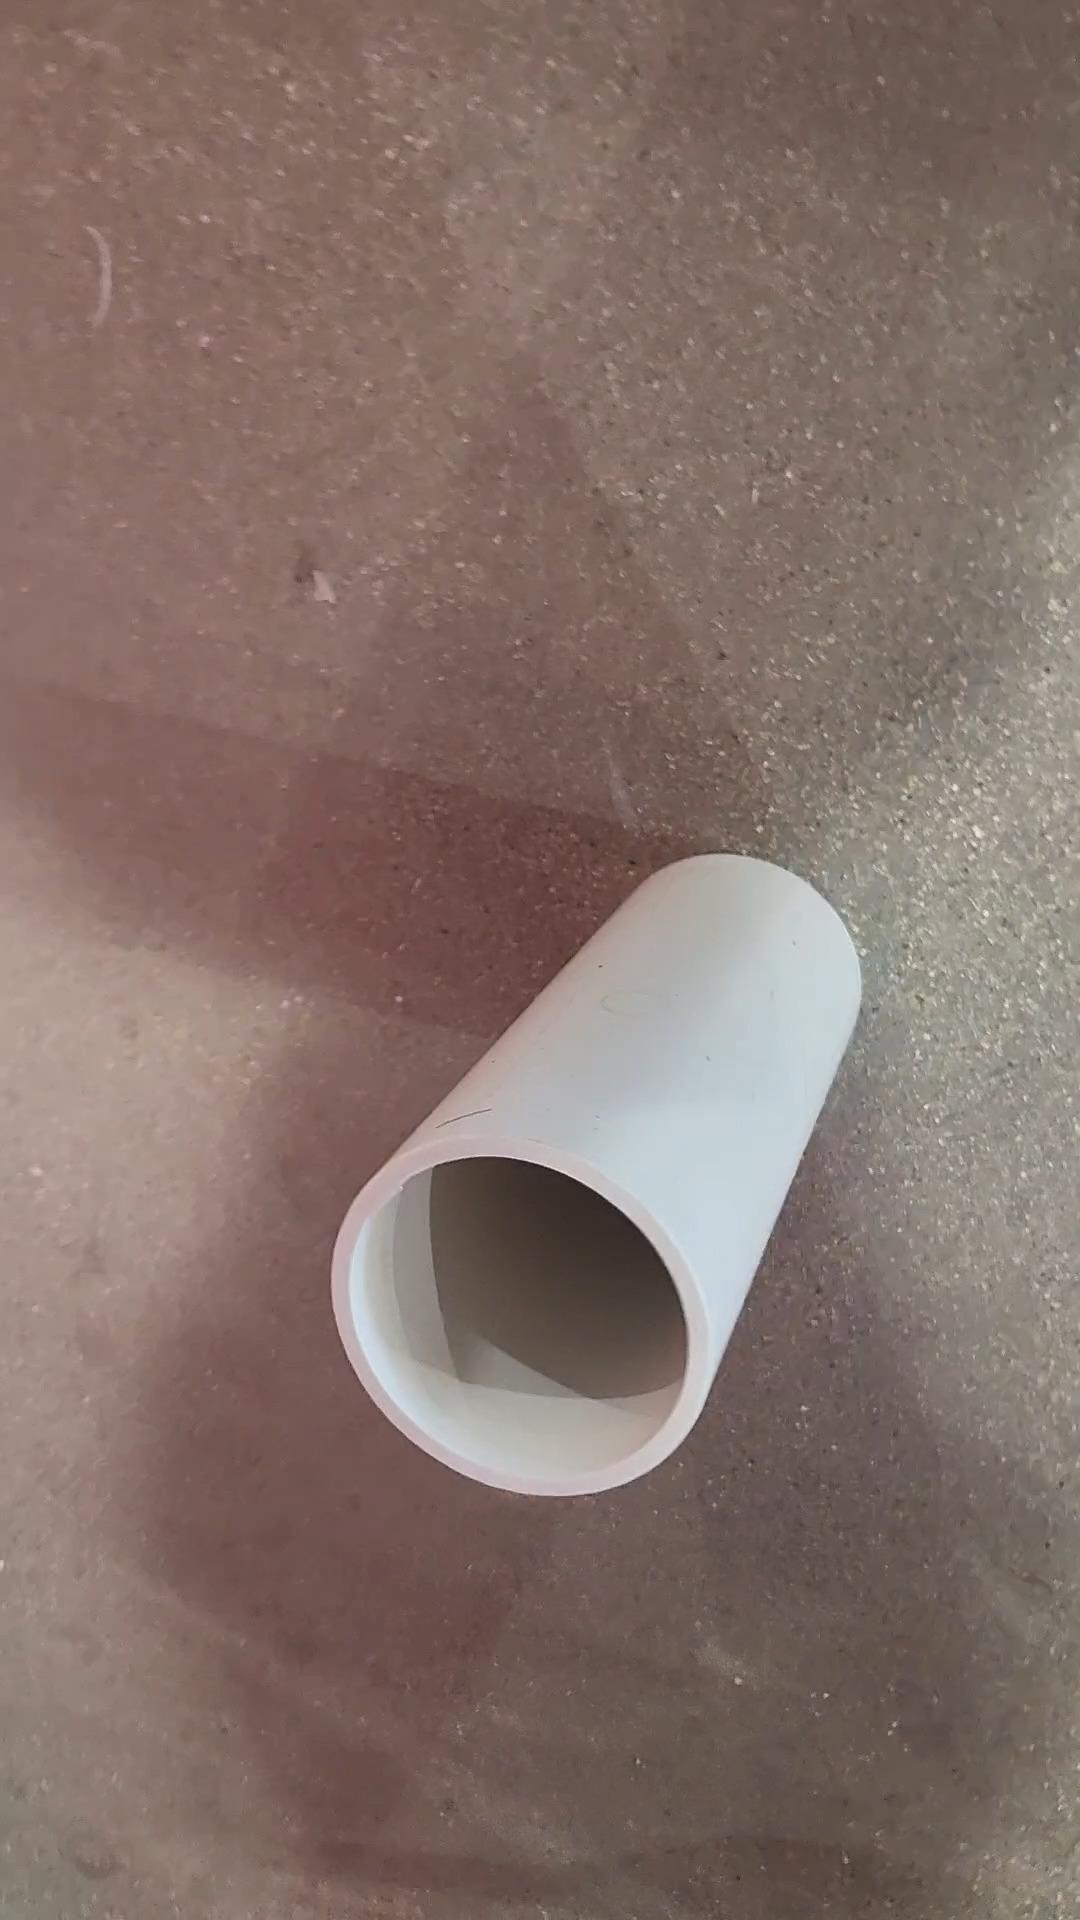coral: (345, 860, 860, 1498)
